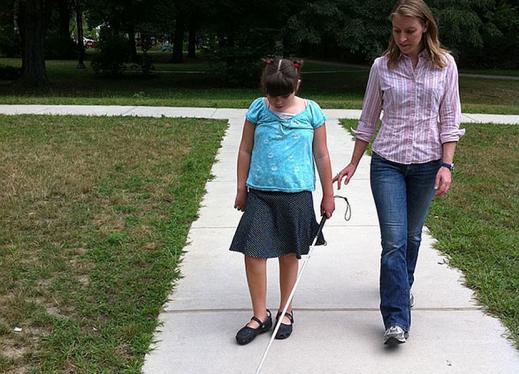Person: (332, 1, 464, 346), (234, 55, 337, 347)
